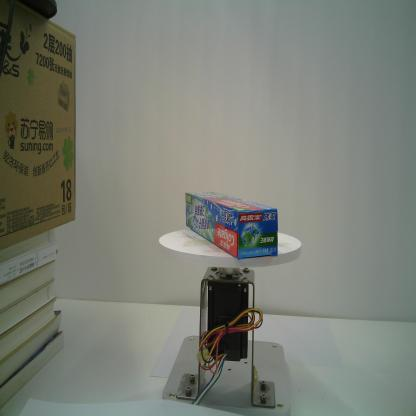Personal Hygiene: (183, 188, 279, 261)
